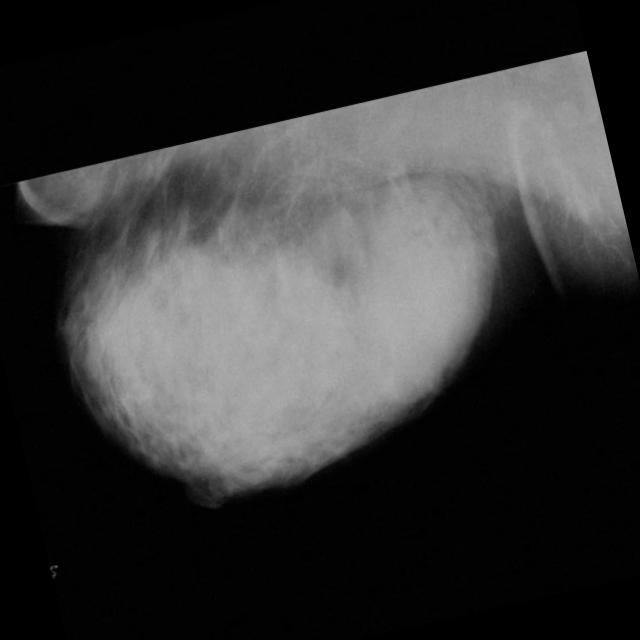CALC: (383, 368, 418, 402)
